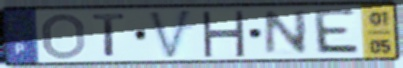E: (313, 8, 363, 56)
H: (199, 9, 247, 58)
N: (262, 8, 310, 58)
O: (40, 11, 88, 61)
T: (90, 12, 129, 59)
V: (146, 7, 194, 62)
